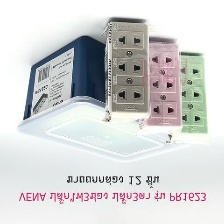plastic_box: (14, 31, 193, 166)
three_eye_plug: (102, 18, 153, 120), (137, 37, 183, 136), (164, 51, 207, 142)
